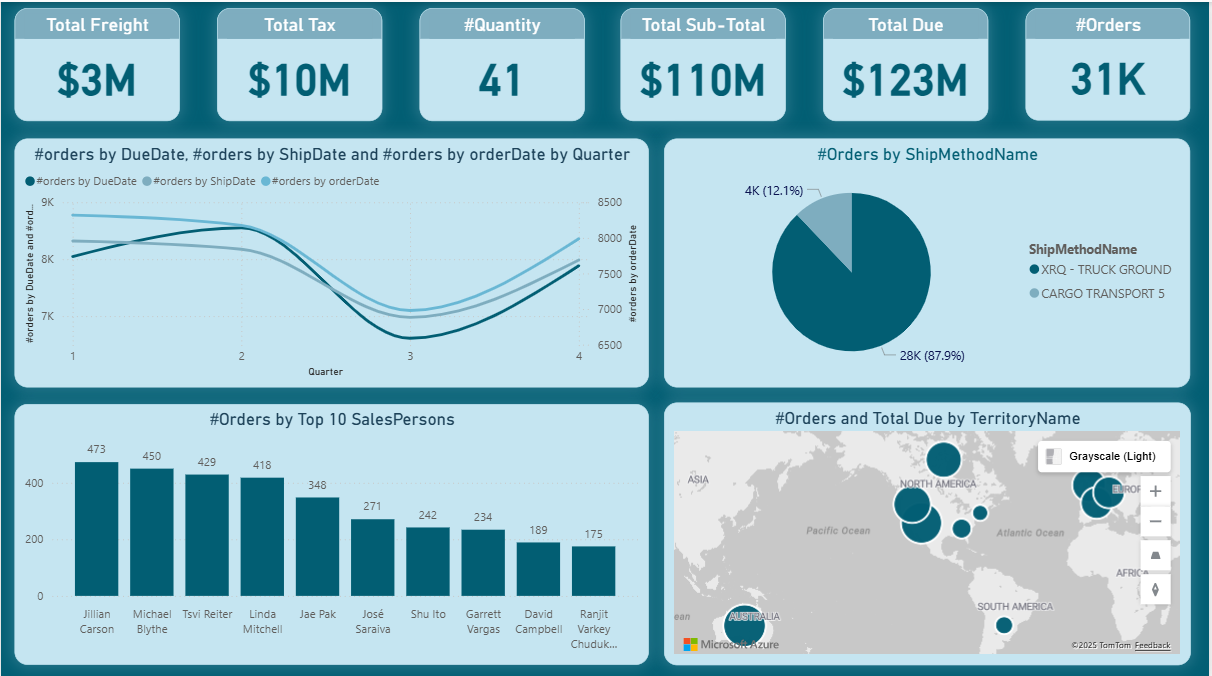

The page's visual inventory and layout, read from the dashboard file:
{"tool":"powerbi","page":{"name":"Adventure work Dasboard","canvas":[1280,720],"ordinal":0},"visuals":[{"type":"card","title":"Total Freight","fields":{"Values":["Dax Measures.Total Freight"]},"box":[14.6,6.2,175,120],"z":0},{"type":"card","title":"Total Tax","fields":{"Values":["Dax Measures.Total Tax"]},"box":[228.9,6.2,175,120],"z":1000},{"type":"card","title":"Total Due","fields":{"Values":["Dax Measures.Total Due"]},"box":[872,6.2,175,120],"z":2000},{"type":"card","title":"#Orders","fields":{"Values":["Dax Measures.#Orders"]},"box":[1086.4,6.4,175,119.3],"z":3000},{"type":"card","title":"#Quantity","fields":{"Values":["Dax Measures.#Quantity"]},"box":[443.3,6.2,175,120],"z":4000},{"type":"lineChart","fields":{"Y":["Dax Measures.#orders by DueDate","Dax Measures.#orders by ShipDate"],"Category":["Dim Date.Year Hierarchy.Year","Dim Date.Year Hierarchy.Quarter","Dim Date.Year Hierarchy.Month Name"],"Y2":["Dax Measures.#orders by orderDate"]},"box":[14.5,144.8,672.7,263.9],"z":5000},{"type":"card","title":"Total Sub-Total","fields":{"Values":["Dax Measures.Total Sub-Total"]},"box":[657.7,6.2,175,120],"z":6000},{"type":"azureMap","fields":{"Size":["Dax Measures.#Orders"],"Category":["Dim Territory.TerritoryName"]},"box":[703.3,424.9,558.5,278.4],"z":8000},{"type":"pieChart","fields":{"Category":["Dim ShipMethod.ShipMethodName"],"Y":["Dax Measures.#Orders"]},"box":[703.1,144.7,558.3,264],"z":9000},{"type":"columnChart","title":"#Orders by Top 10 SalesPersons","fields":{"Category":["Dim SalesPerson.SalesFullName"],"Y":["Dax Measures.#Orders"]},"box":[14.5,426.5,672.7,276.8],"z":11000}]}

Visuals, with their boxes in screenshot pixels (x1, y1, x2, y2), scaled from the page's 1280x720 canvas onto the 1212x676 screenshot:
"Total Freight" card: bbox(14, 6, 180, 118)
"Total Tax" card: bbox(217, 6, 382, 118)
"Total Due" card: bbox(826, 6, 991, 118)
"#Orders" card: bbox(1029, 6, 1194, 118)
"#Quantity" card: bbox(420, 6, 585, 118)
lineChart - Dax Measures.#orders by DueDate x Dax Measures.#orders by ShipDate: bbox(14, 136, 651, 384)
"Total Sub-Total" card: bbox(623, 6, 788, 118)
azureMap - Dax Measures.#Orders x Dim Territory.TerritoryName: bbox(666, 399, 1195, 660)
pieChart - Dim ShipMethod.ShipMethodName x Dax Measures.#Orders: bbox(666, 136, 1194, 384)
"#Orders by Top 10 SalesPersons" columnChart: bbox(14, 400, 651, 660)
